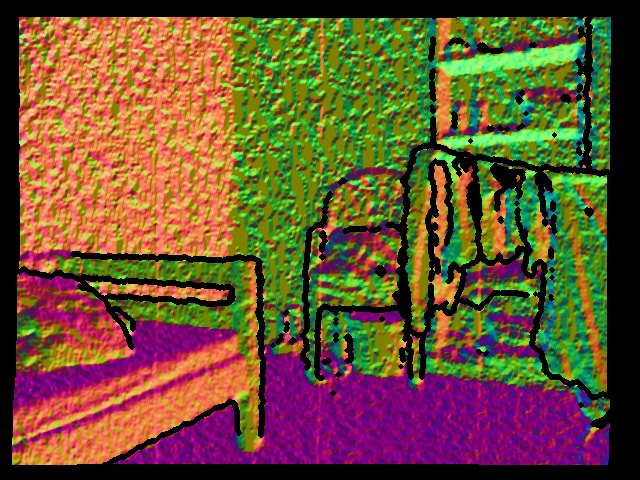station: (271, 305, 304, 357)
